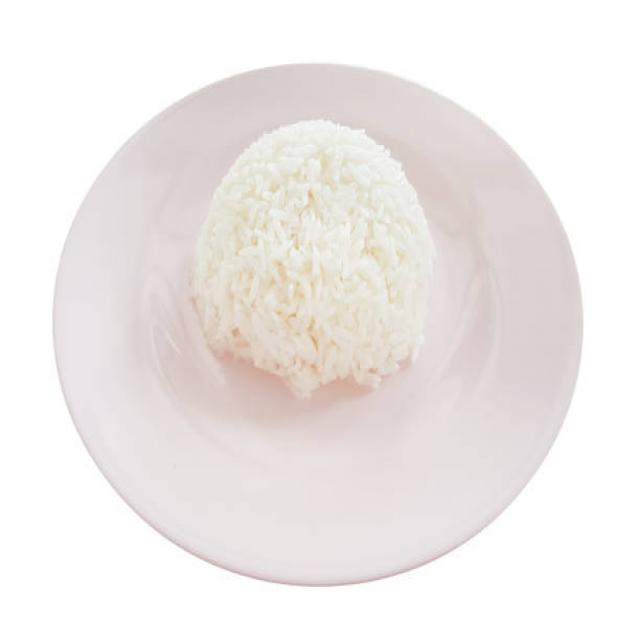rice: (189, 118, 434, 399)
